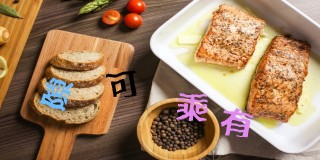乘: (177, 91, 208, 121)
可: (106, 70, 138, 97)
有: (220, 107, 253, 138)
隙: (40, 77, 74, 111)
